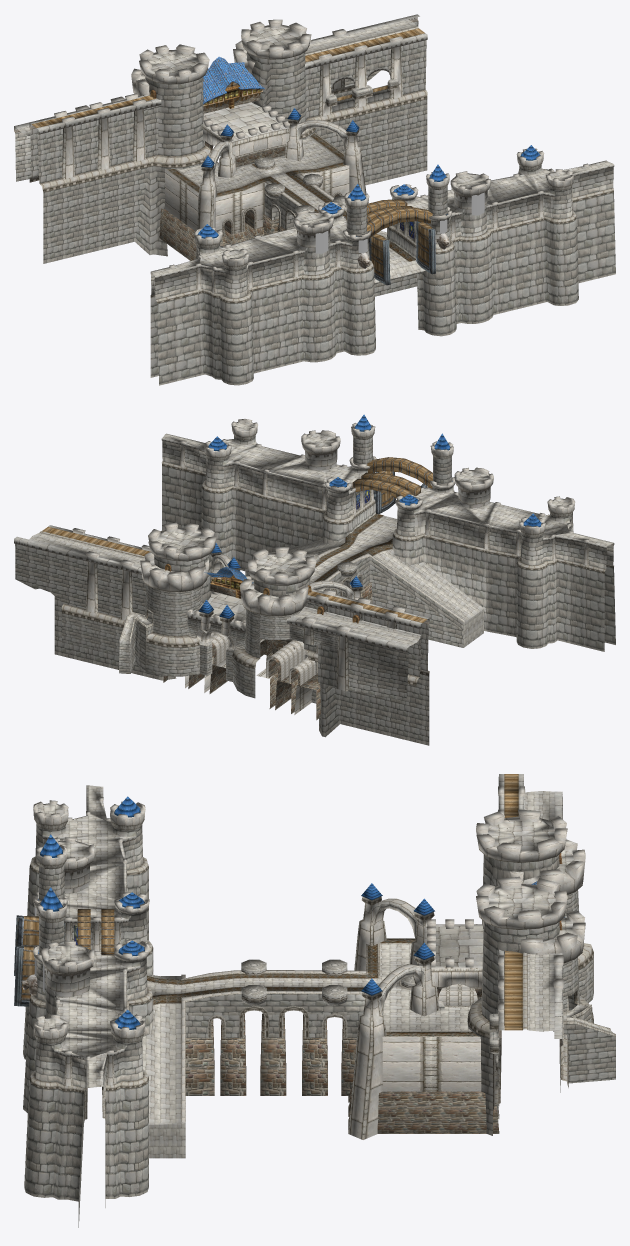
File: stormwind_046.fbx
3 renders of one model, top to bottom at view 1: azimuth 30°, elevation 25°; view 2: azimuth 150°, elevation 25°; view 3: azimuth 270°, elevation 25°, orthographic. The views are drawn at different scales.
Parts seen in each view (by area): view 1: stormwind_046_4, stormwind_046_5, stormwind_046_26, stormwind_046_11, stormwind_046_31, stormwind_046_3, stormwind_046_28, stormwind_046_7, stormwind_046_8, stormwind_046_32, stormwind_046_29; view 2: stormwind_046_4, stormwind_046_5, stormwind_046_26, stormwind_046_11, stormwind_046_31, stormwind_046_3, stormwind_046_8, stormwind_046_28; view 3: stormwind_046_4, stormwind_046_5, stormwind_046_26, stormwind_046_3, stormwind_046_11, stormwind_046_31, stormwind_046_28, stormwind_046_8, stormwind_046_32.
Part boxes in pixels (left/top/right/bottom): stormwind_046_4: left=15, top=21, right=615, bottom=385; stormwind_046_5: left=54, top=19, right=588, bottom=293; stormwind_046_26: left=17, top=19, right=613, bottom=282; stormwind_046_11: left=14, top=14, right=614, bottom=303; stormwind_046_31: left=32, top=28, right=432, bottom=278; stormwind_046_3: left=159, top=93, right=340, bottom=260; stormwind_046_28: left=165, top=132, right=415, bottom=261; stormwind_046_7: left=203, top=56, right=447, bottom=236; stormwind_046_8: left=197, top=108, right=540, bottom=238; stormwind_046_32: left=369, top=221, right=435, bottom=285; stormwind_046_29: left=315, top=192, right=484, bottom=253; stormwind_046_4: left=15, top=435, right=615, bottom=745; stormwind_046_5: left=72, top=419, right=589, bottom=714; stormwind_046_26: left=29, top=422, right=613, bottom=647; stormwind_046_11: left=14, top=438, right=614, bottom=685; stormwind_046_31: left=42, top=457, right=432, bottom=622; stormwind_046_3: left=146, top=582, right=372, bottom=720; stormwind_046_8: left=198, top=414, right=541, bottom=618; stormwind_046_28: left=313, top=513, right=392, bottom=582; stormwind_046_4: left=23, top=824, right=615, bottom=1227; stormwind_046_5: left=33, top=786, right=615, bottom=1139; stormwind_046_26: left=38, top=785, right=612, bottom=1158; stormwind_046_3: left=185, top=988, right=577, bottom=1133; stormwind_046_11: left=29, top=774, right=593, bottom=1122; stormwind_046_31: left=21, top=774, right=522, bottom=1030; stormwind_046_28: left=147, top=938, right=479, bottom=1036; stormwind_046_8: left=40, top=796, right=564, bottom=1029; stormwind_046_32: left=14, top=915, right=65, bottom=1006.
Bounding box in the file's own units: 340 × 128 × 286.
